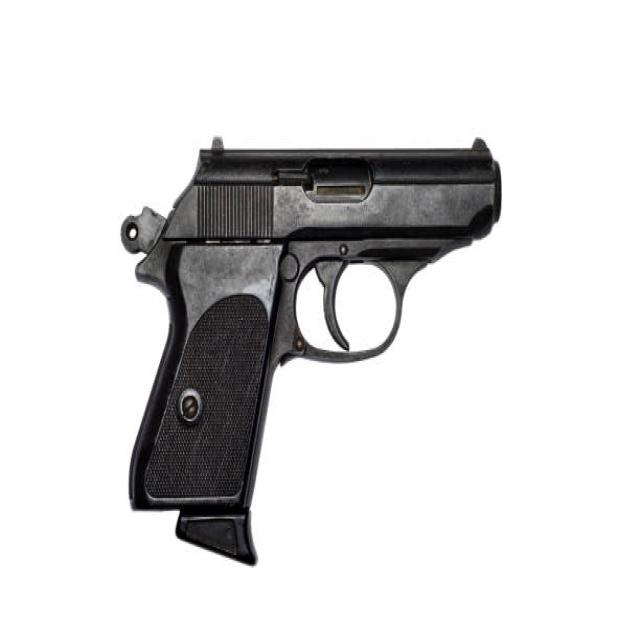pistol: (122, 128, 507, 579)
